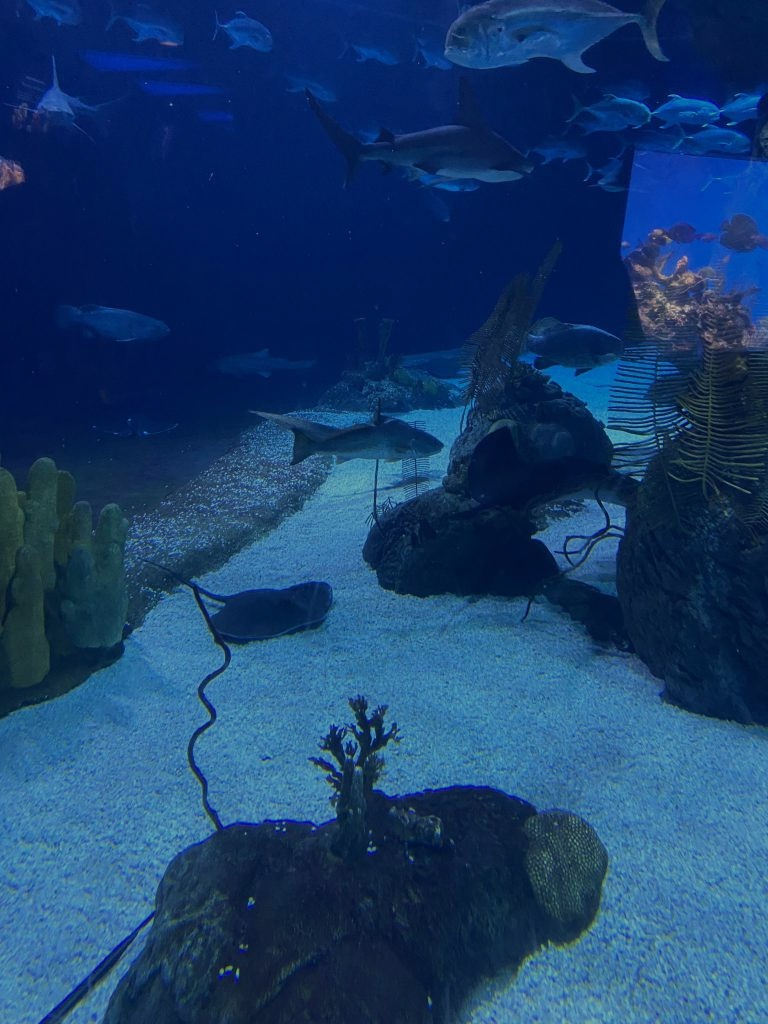fish: (447, 0, 672, 75), (289, 420, 443, 464), (514, 324, 626, 376), (56, 302, 172, 346), (103, 0, 187, 47), (564, 90, 650, 128), (210, 7, 272, 53), (270, 63, 338, 103), (673, 123, 751, 155), (648, 93, 718, 127), (338, 26, 396, 66), (19, 0, 87, 27), (715, 90, 767, 124), (616, 130, 678, 158), (718, 214, 758, 252), (534, 136, 586, 164), (411, 39, 449, 71), (422, 190, 450, 222), (666, 222, 704, 242), (750, 231, 768, 251)
shark: (305, 76, 529, 192), (6, 56, 128, 142), (206, 350, 316, 378), (582, 156, 638, 192)
stingray: (467, 426, 635, 508), (210, 582, 334, 642), (92, 412, 180, 438), (403, 356, 463, 376)
